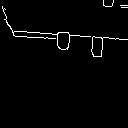cube: (85, 33, 110, 60), (53, 28, 74, 57)
